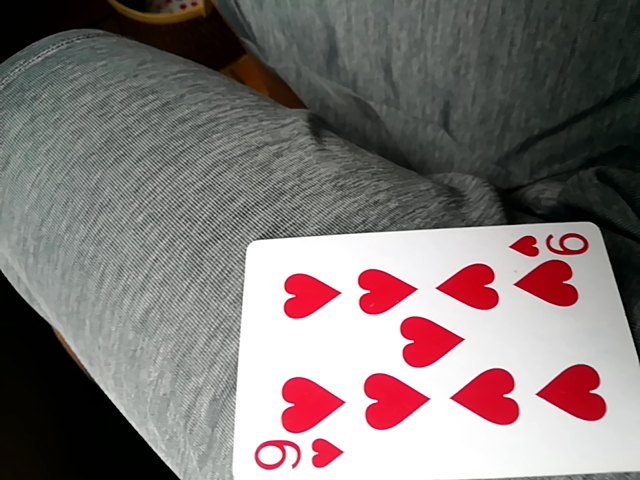hx 9: (232, 218, 632, 476)
